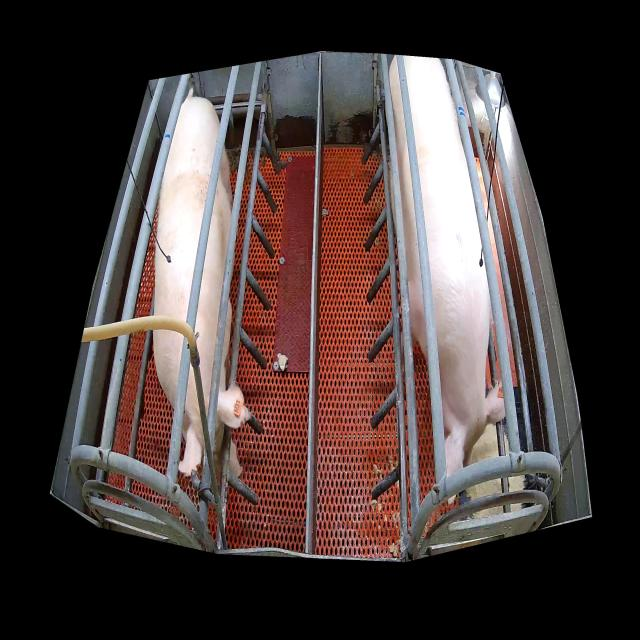pig: (388, 55, 506, 477), (153, 97, 244, 477)
